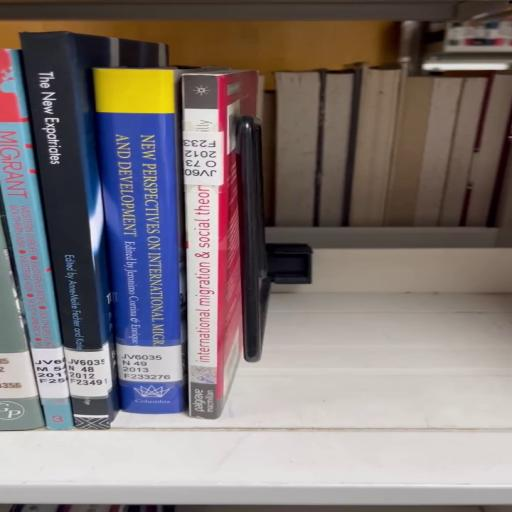reverse: (182, 70, 257, 419)
